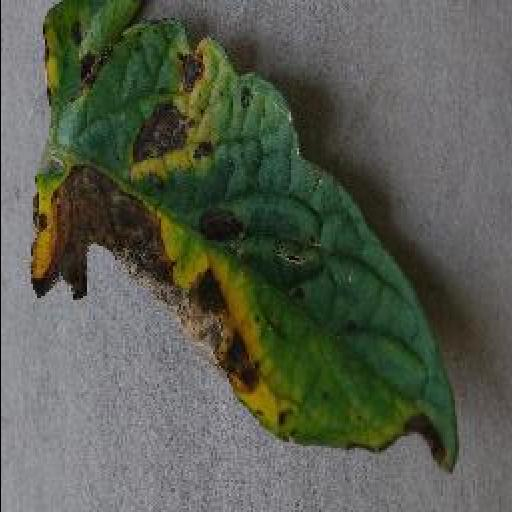disease_tomato: (30, 2, 464, 474)
